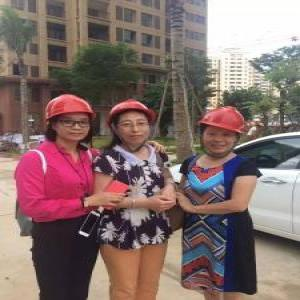red: (44, 94, 94, 147), (199, 104, 247, 157), (106, 100, 157, 148)
